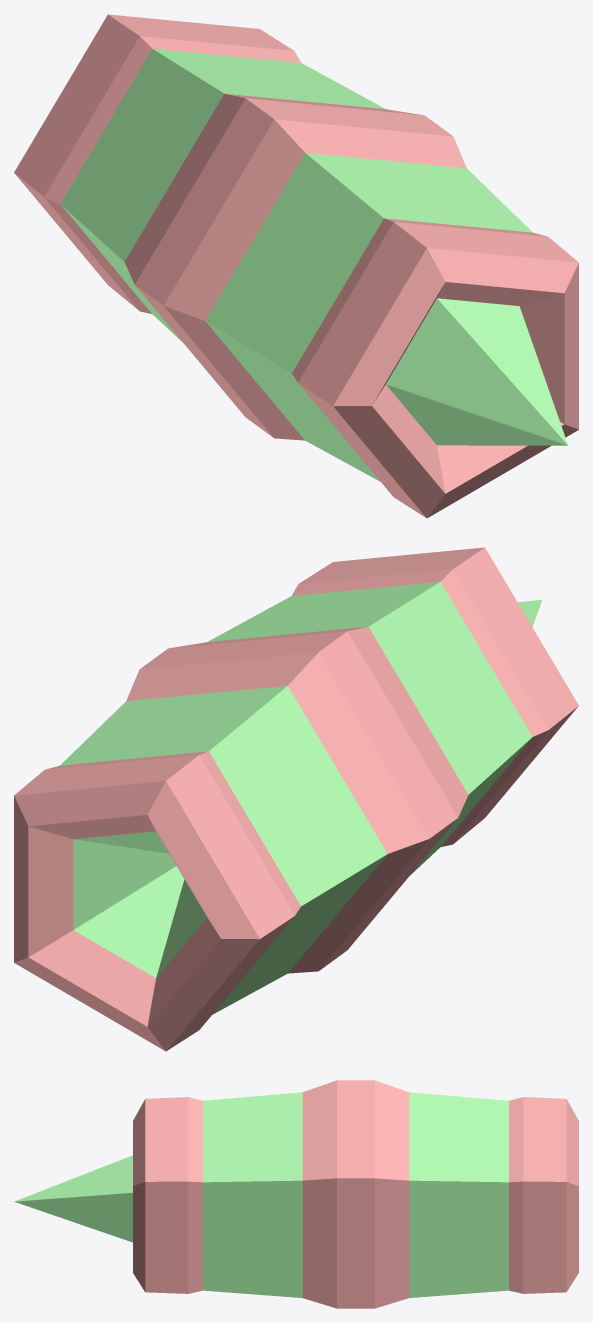
The model's file is ping.fbx.
3 renders of one model, top to bottom at view 1: azimuth 30°, elevation 25°; view 2: azimuth 150°, elevation 25°; view 3: azimuth 270°, elevation 25°, orthographic. The views are drawn at different scales.
Visible parts, largest first — view 1: cylinder; view 2: cylinder; view 3: cylinder.
Part boxes in pixels (x1=…): cylinder: x1=14, y1=14, x2=578, y2=518; cylinder: x1=14, y1=547, x2=578, y2=1051; cylinder: x1=14, y1=1080, x2=578, y2=1308.
Size of the model in its own units: 1.74 by 1.83 by 4.45.
